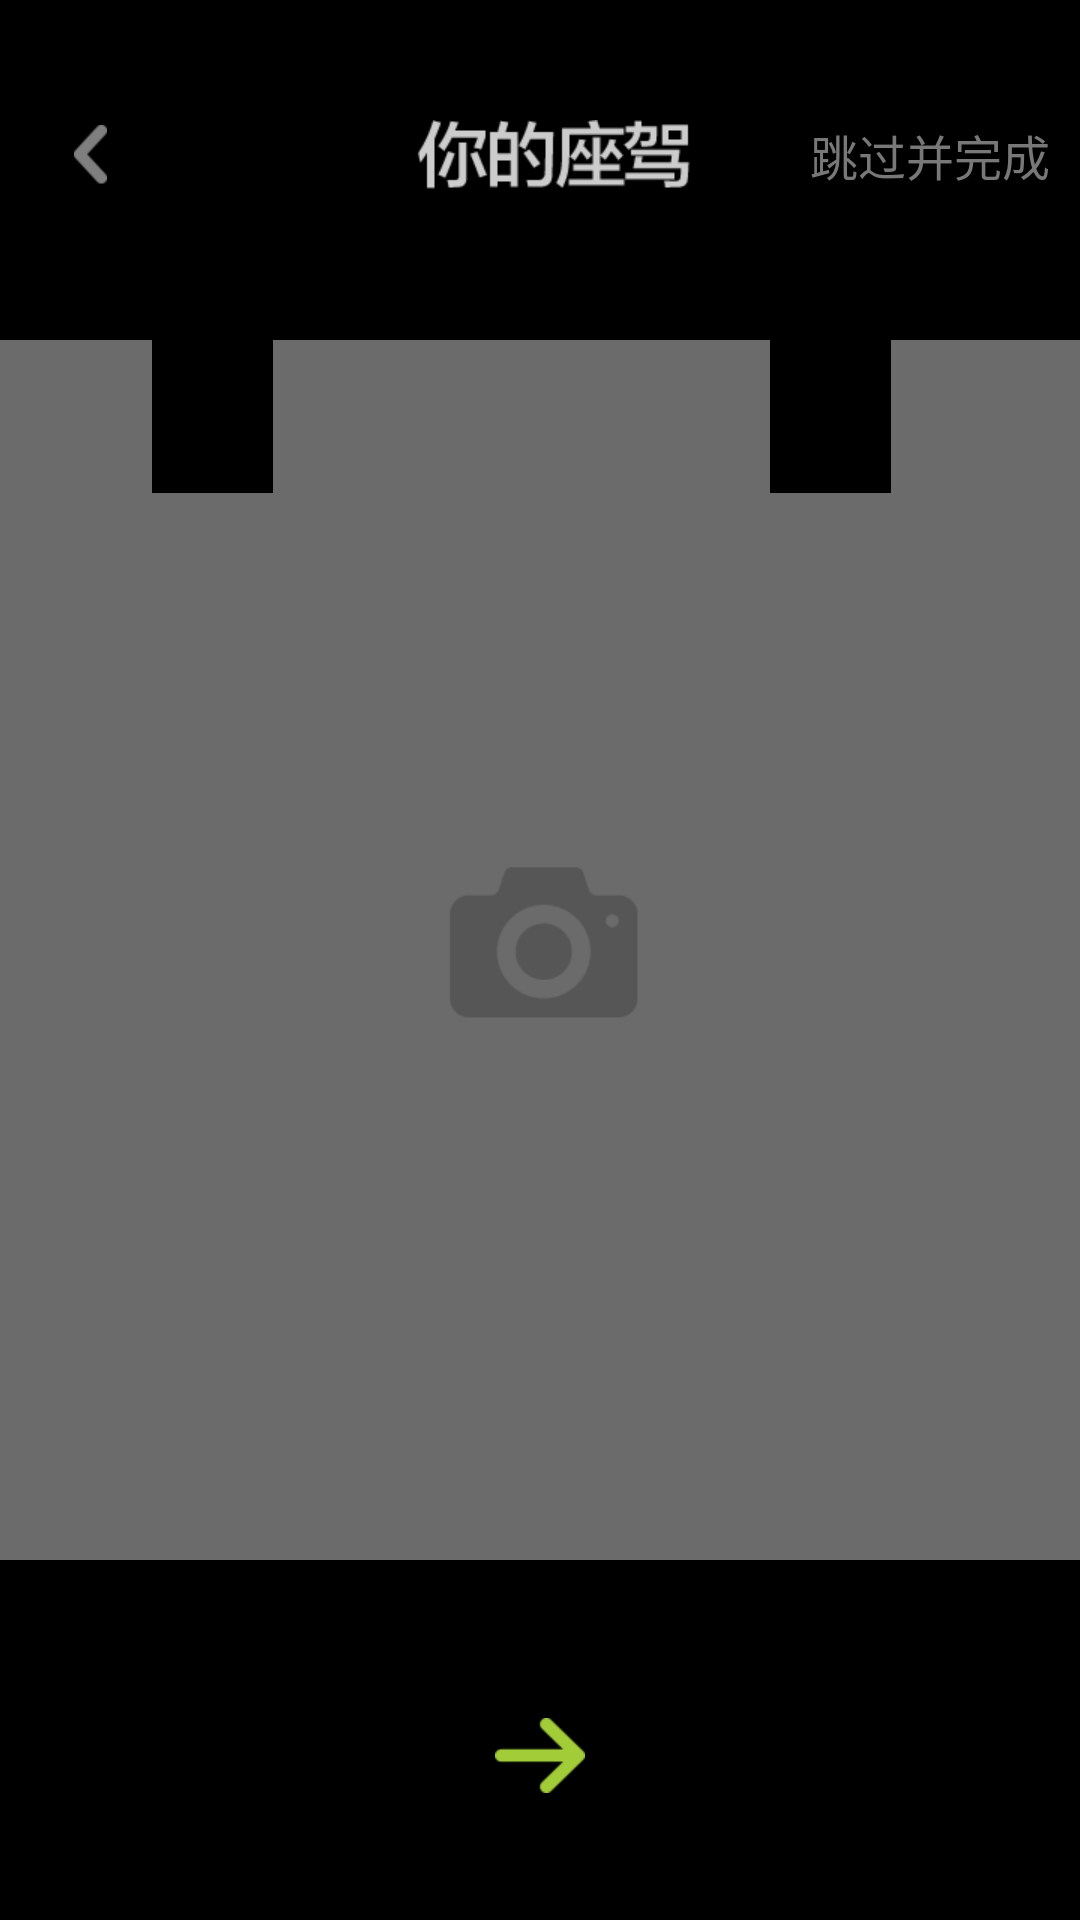

Named icons in this screenshot (1080 × 1920) and their centers, point (x, y):
back: point (90, 154)
regist arrow: point (540, 1755)
